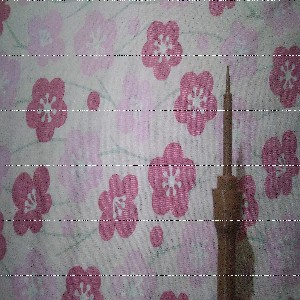solder: (210, 65, 245, 300)
